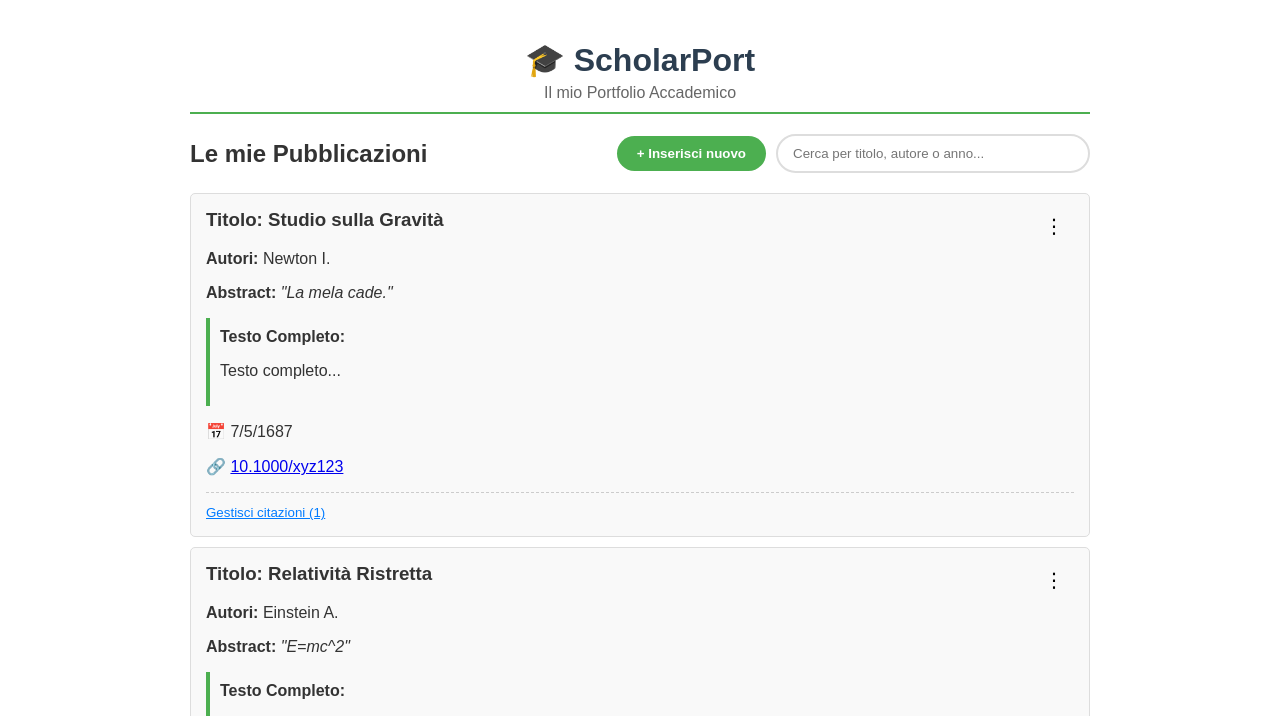
Test: ScholarPort Functional Tests › 5. Eliminazione Articolo (con Modale Dedicato) › Mostra il modale di conferma quando si clicca Elimina
Expected: the heading "Titolo: Studio sulla Gravità" is shown, [206,209,444,230]
Click the button "⋮" in the row of "Studio sulla Gravità" at [1054, 226], box [1034,209,1074,243]
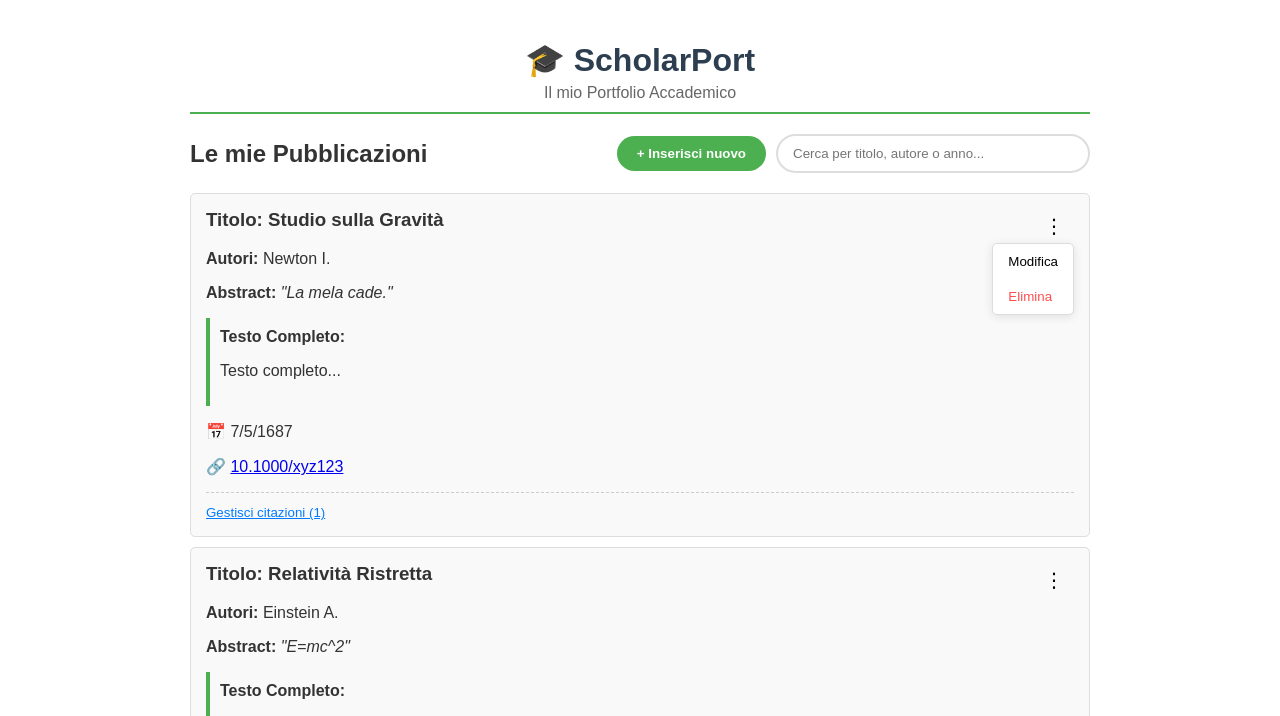
Click the button "Elimina" at [1033, 297], box [993,279,1073,314]
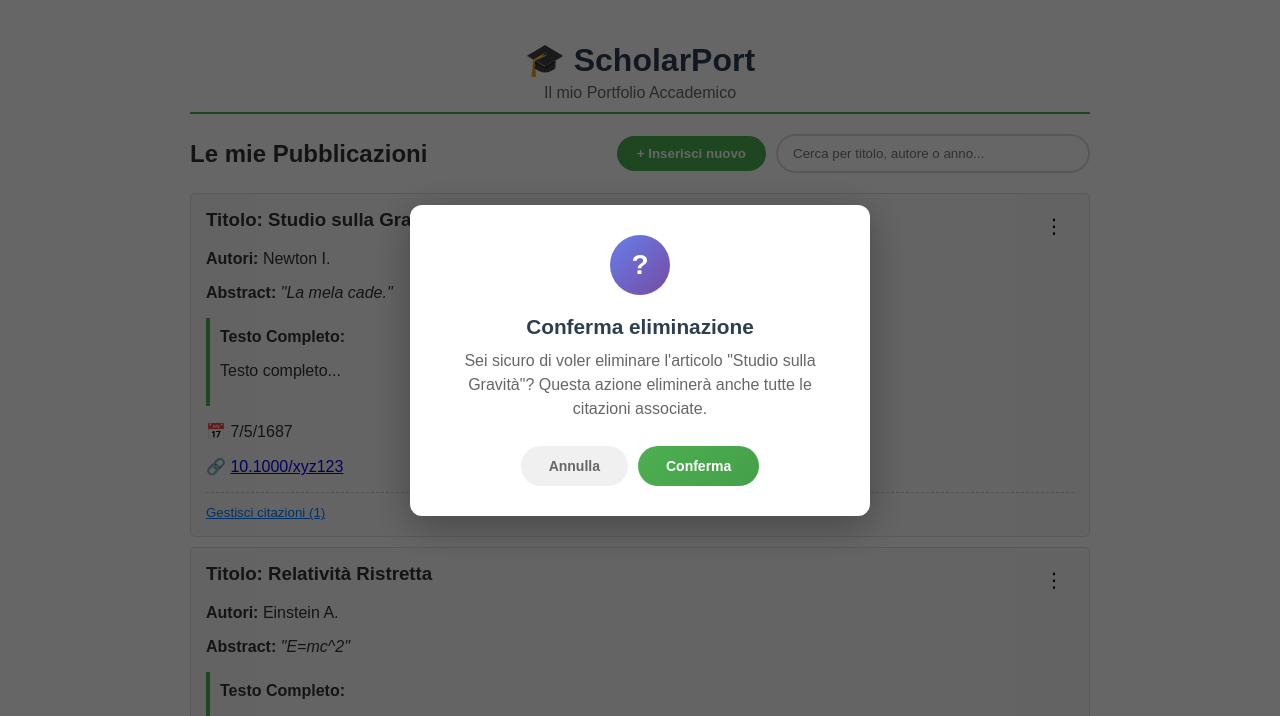
Expected: the heading "Conferma eliminazione" is shown, [526,314,754,338]
